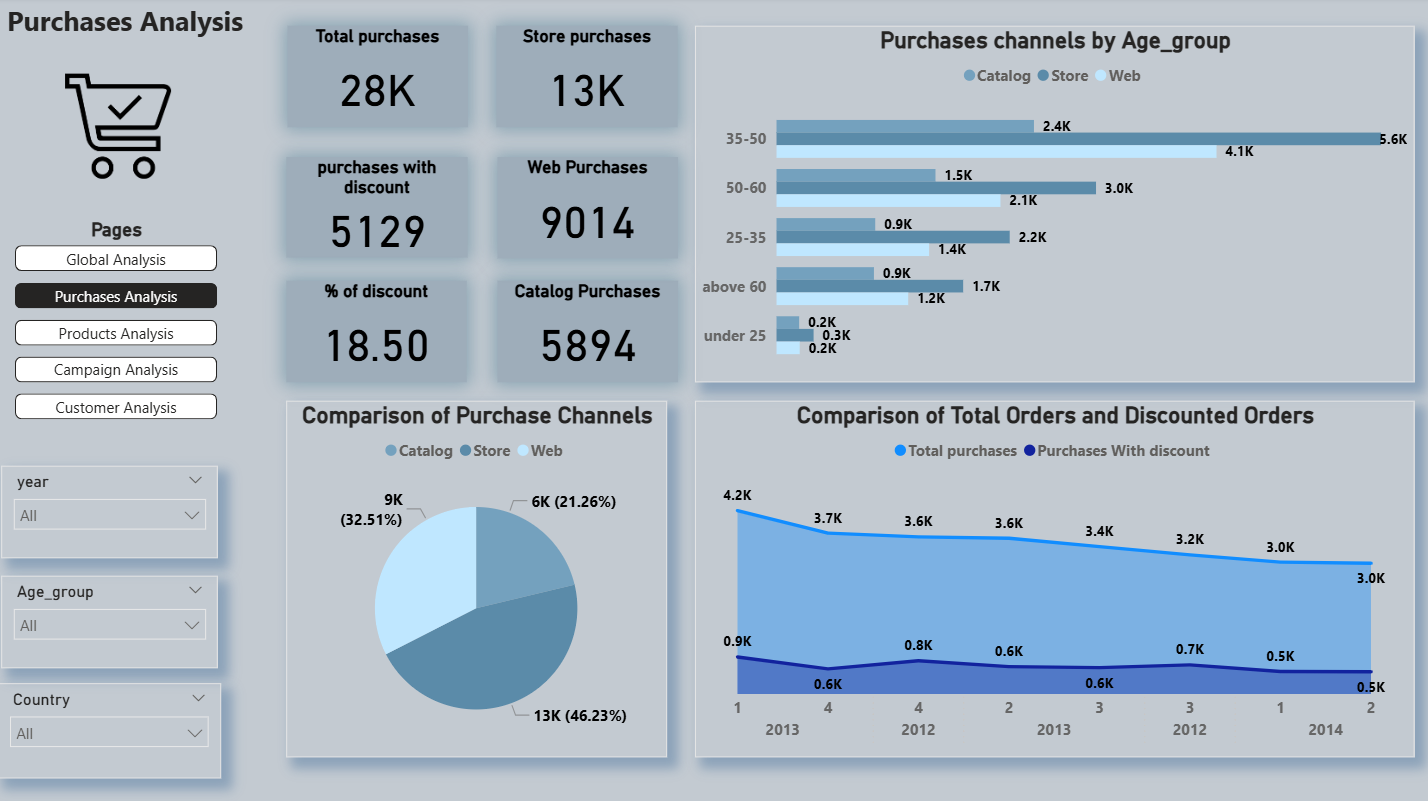

The dashboard page shown, as its layout file describes it:
{"tool":"powerbi","page":{"name":"Purchases Analysis","canvas":[1280,720],"ordinal":1},"visuals":[{"type":"textbox","box":[0,0,231.6,188.2],"z":0},{"type":"pageNavigator","title":"Pages","box":[18.1,196.6,181,182.2],"z":1000},{"type":"slicer","fields":{"Values":["DATA DIM.year"]},"box":[6,417.4,193,82],"z":2000},{"type":"slicer","fields":{"Values":["marketing_table.Age_group"]},"box":[6,515.2,193,82],"z":3000},{"type":"slicer","fields":{"Values":["marketing_table.Country"]},"box":[2.4,611.7,199.1,84.5],"z":4000},{"type":"card","title":"Catalog Purchases","fields":{"Values":["Sum(marketing_table.NumCatalogPurchases)"]},"box":[447.6,252.1,160.5,90.5],"z":5000},{"type":"card","title":"Store purchases","fields":{"Values":["Sum(marketing_table.NumStorePurchases)"]},"box":[446.4,25.3,161.7,90.5],"z":6000},{"type":"card","title":"Web Purchases","fields":{"Values":["Sum(marketing_table.NumWebPurchases)"]},"box":[447.6,142.4,160.5,90.5],"z":7000},{"type":"card","title":"Total purchases","fields":{"Values":["dax masuers.Total purchases"]},"box":[260.6,25.3,160.5,90.5],"z":8000},{"type":"card","title":"purchases with discount","fields":{"Values":["dax masuers.Total purchases with discount"]},"box":[259.4,142.4,161.7,89.3],"z":9000},{"type":"card","title":"% of discount","fields":{"Values":["dax masuers.% Purchases with discount"]},"box":[259.4,252.1,160.5,90.5],"z":10000},{"type":"image","box":[0,63.9,219.6,103.8],"z":11000},{"type":"pieChart","title":"Comparison of Purchase Channels","fields":{"Y":["Sum(marketing_table.NumCatalogPurchases)","Sum(marketing_table.NumStorePurchases)","Sum(marketing_table.NumWebPurchases)"]},"box":[259.4,359.5,339,317.3],"z":12000},{"type":"clusteredBarChart","title":"Purchases channels by Age_group","fields":{"Y":["Sum(marketing_table.NumCatalogPurchases)","Sum(marketing_table.NumStorePurchases)","Sum(marketing_table.NumWebPurchases)"],"Category":["marketing_table.Age_group"]},"box":[623.7,25.3,640.6,317.3],"z":13000},{"type":"lineChart","title":"Comparison of Total Orders and Discounted Orders","fields":{"Category":["DATA DIM.year","DATA DIM.Quarter"],"Y":["dax masuers.Total purchases","Sum(marketing_table.NumDealsPurchases)"]},"box":[623.7,359.5,640.6,317.3],"z":14000}]}

Visuals, with their boxes in screenshot pixels (x1, y1, x2, y2), scaled from the page's 1280x720 canvas onto the 1428x801 screenshot:
textbox: (0, 0, 258, 209)
"Pages" pageNavigator: (20, 219, 222, 421)
slicer - DATA DIM.year: (7, 464, 222, 556)
slicer - marketing_table.Age_group: (7, 573, 222, 664)
slicer - marketing_table.Country: (3, 681, 225, 775)
"Catalog Purchases" card: (499, 280, 678, 381)
"Store purchases" card: (498, 28, 678, 129)
"Web Purchases" card: (499, 158, 678, 259)
"Total purchases" card: (291, 28, 470, 129)
"purchases with discount" card: (289, 158, 470, 258)
"% of discount" card: (289, 280, 468, 381)
image: (0, 71, 245, 187)
"Comparison of Purchase Channels" pieChart: (289, 400, 668, 753)
"Purchases channels by Age_group" clusteredBarChart: (696, 28, 1410, 381)
"Comparison of Total Orders and Discounted Orders" lineChart: (696, 400, 1410, 753)
